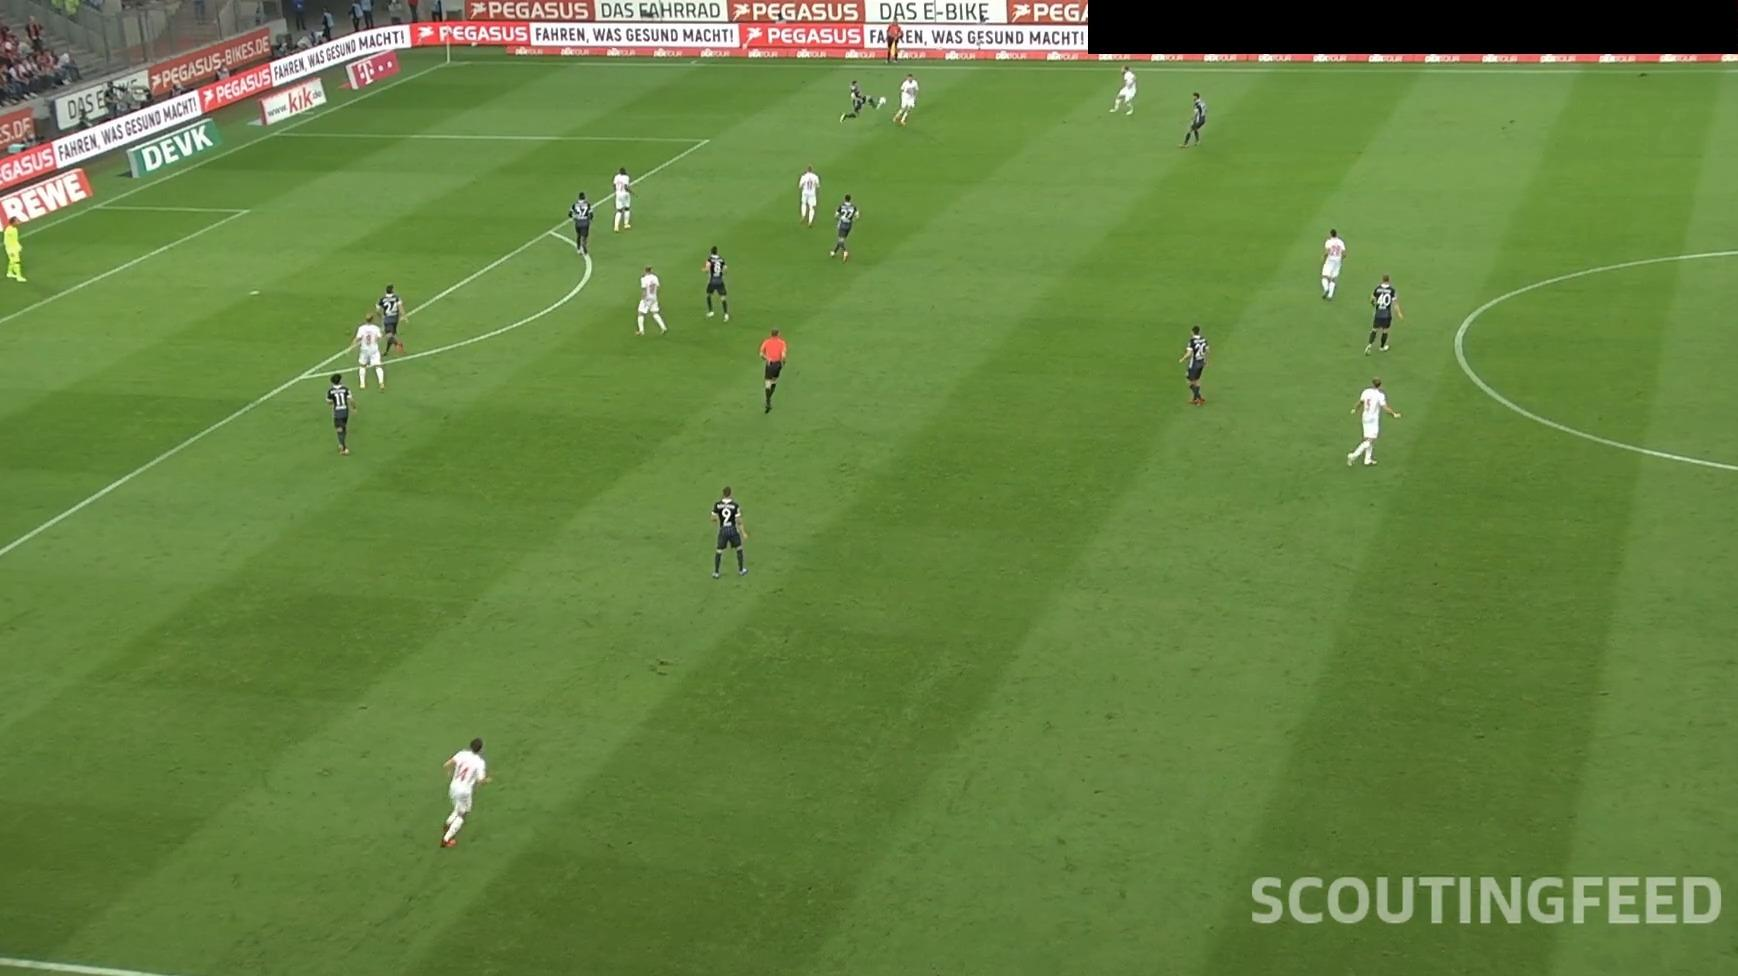ball: (877, 95, 887, 106)
